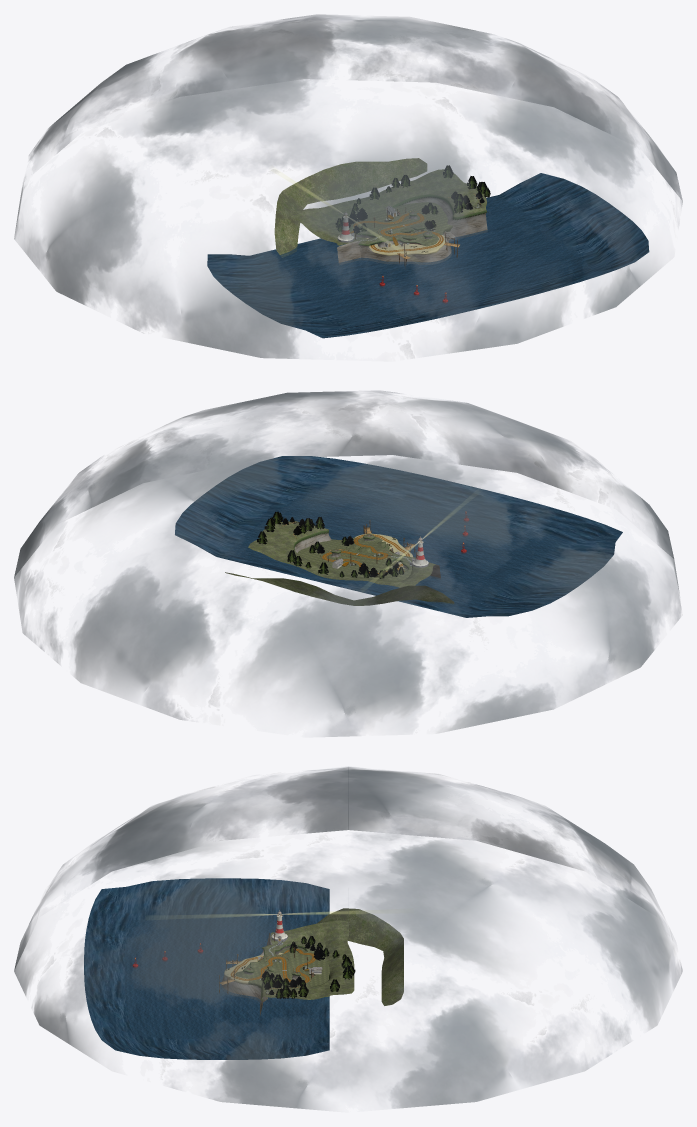
The model's file is lighthouse-scene.glb.
The picture shows the model from 3 angles, top to bottom: view 1: azimuth 30°, elevation 25°; view 2: azimuth 150°, elevation 25°; view 3: azimuth 270°, elevation 25°; orthographic projection.
Size of the model in its own units: 1610 by 434 by 1610.
Materials: 47 (46 with a texture image).
